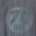Speed limit: (0, 3, 35, 34)
